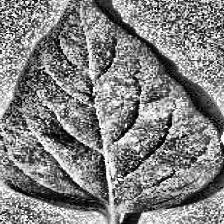spider mites: (0, 0, 222, 212)
